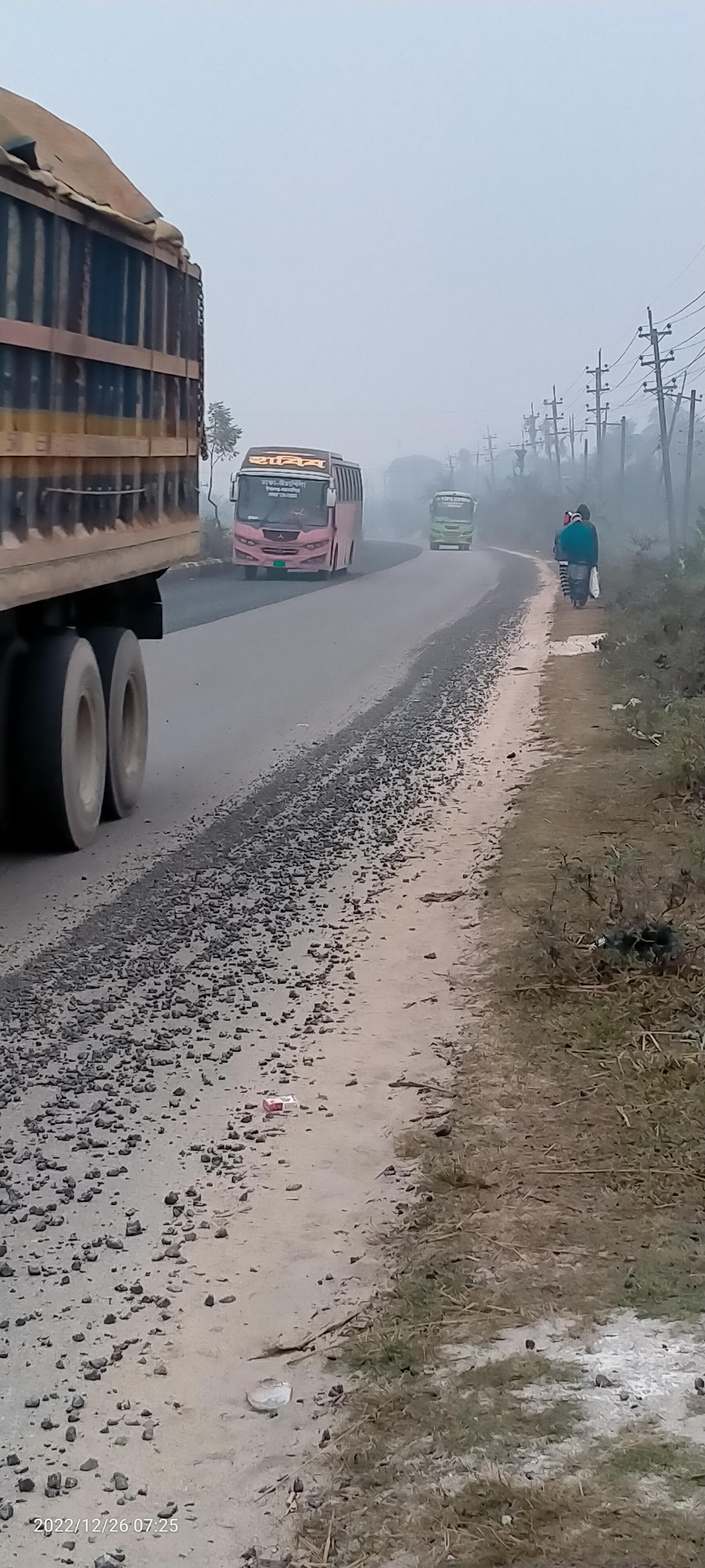Bus: (223, 428, 385, 591), (426, 483, 483, 562)
Truck: (6, 76, 238, 875)
